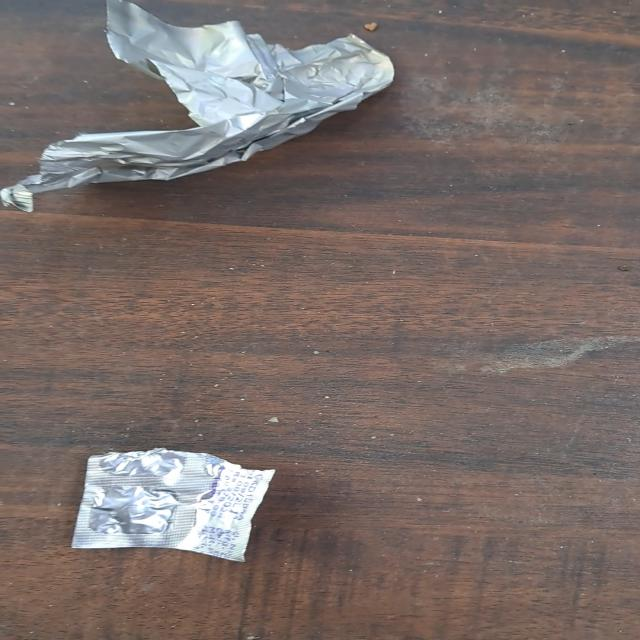Anorganik: (0, 0, 395, 215), (69, 446, 276, 562)
